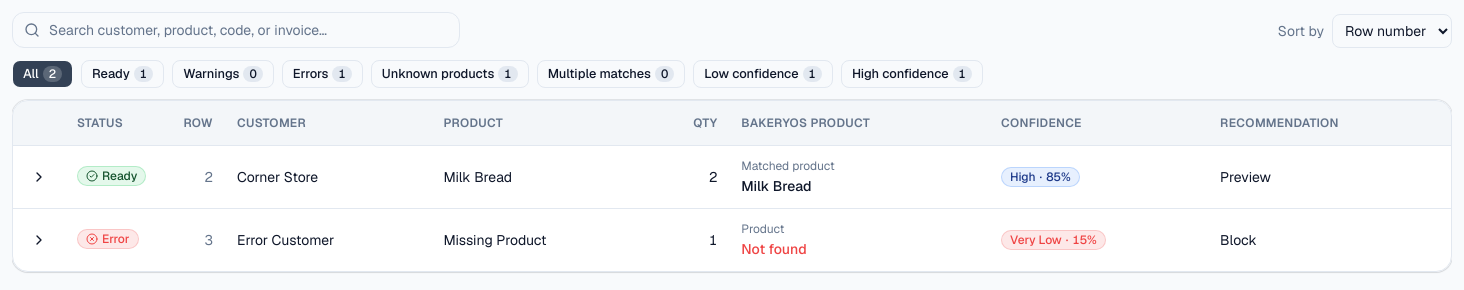
Test: ImportReviewRowTable › filters error rows
This screenshot has width=1464, height=290.
Click the button "Errors 1": (322, 74) [282, 60, 363, 88]
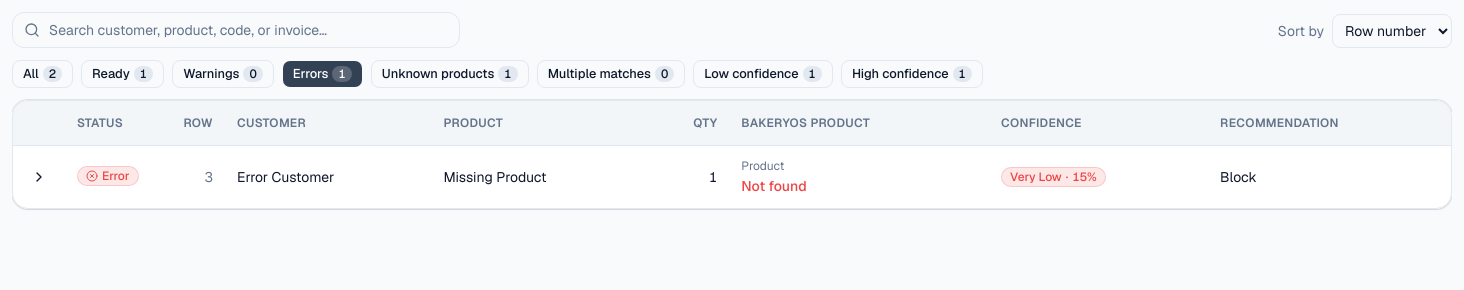
Expected: the text "Missing Product" is shown, [432, 145, 648, 208]
Expected: the text "Milk Bread" is gone
